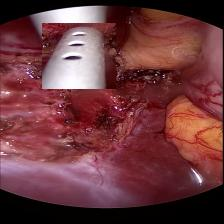Irrigator: (42, 22, 116, 88)
